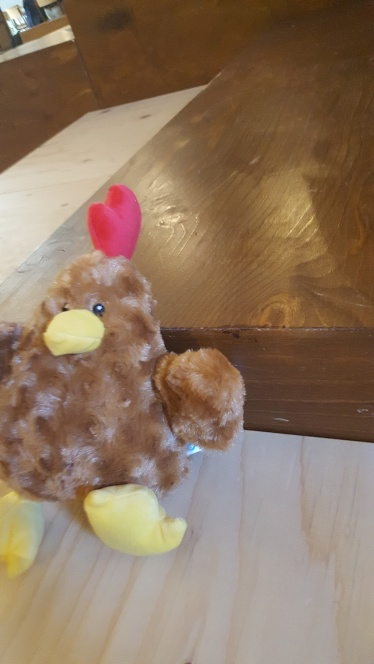chicken_front: (1, 183, 244, 566)
